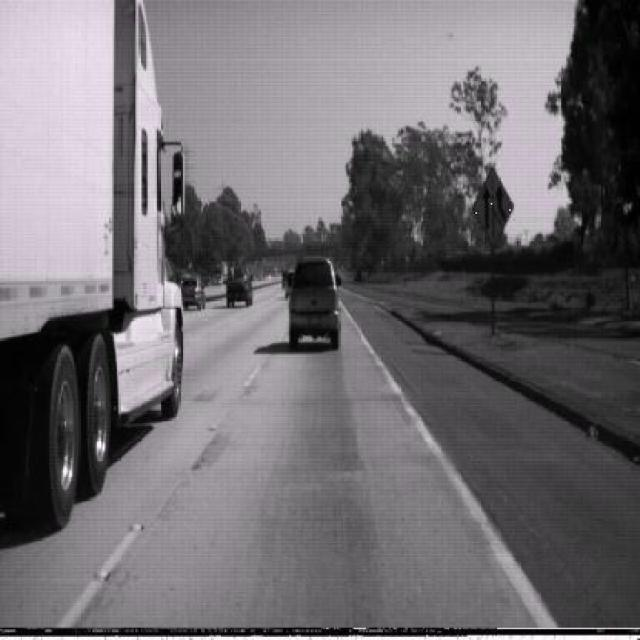addedLane: (472, 165, 514, 249)
